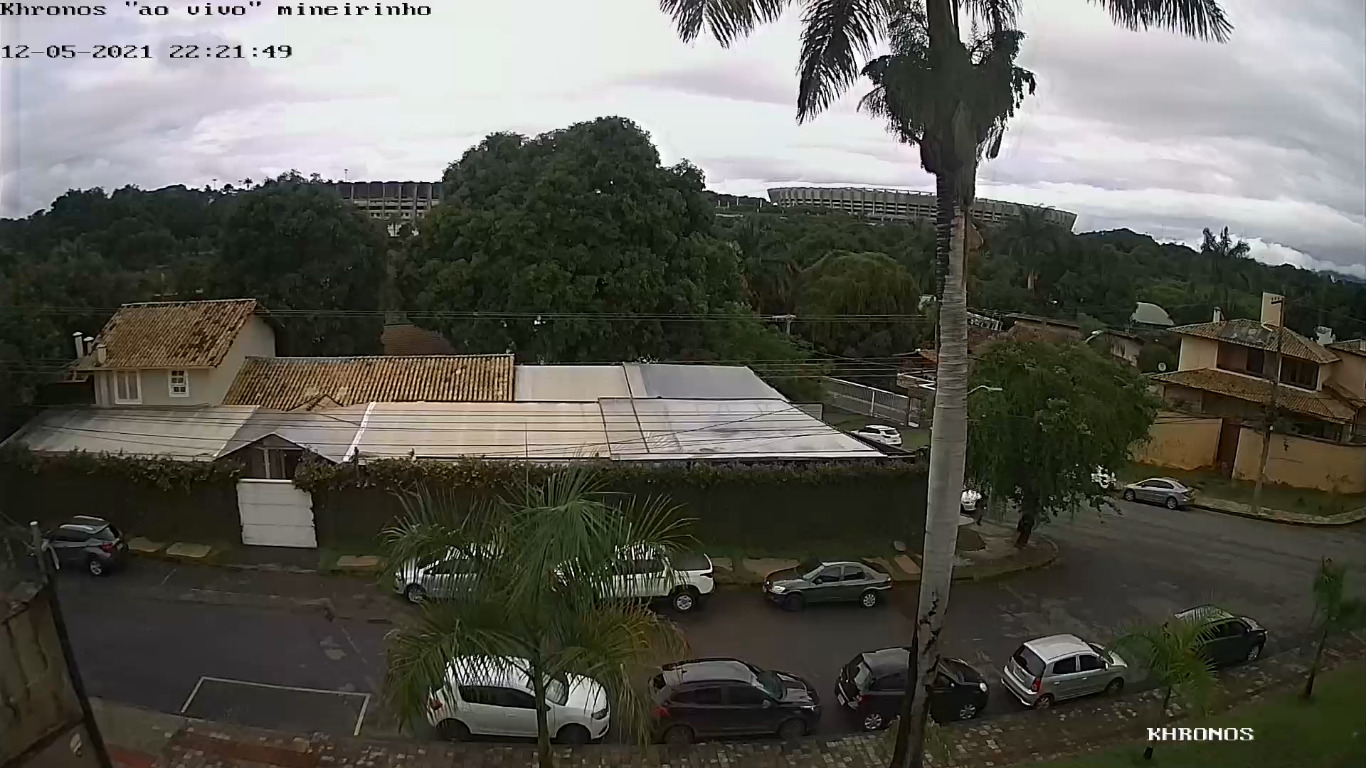car: (424, 654, 609, 746), (652, 656, 820, 746), (835, 646, 989, 728), (554, 542, 716, 613), (1000, 634, 1128, 712), (393, 541, 522, 606), (764, 554, 893, 612), (1160, 604, 1268, 672), (26, 514, 130, 579), (1123, 477, 1194, 511)
